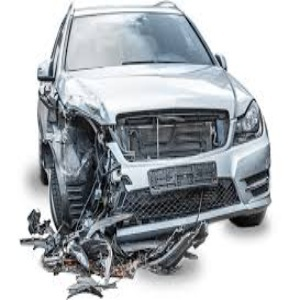bumper: (73, 170, 220, 269)
